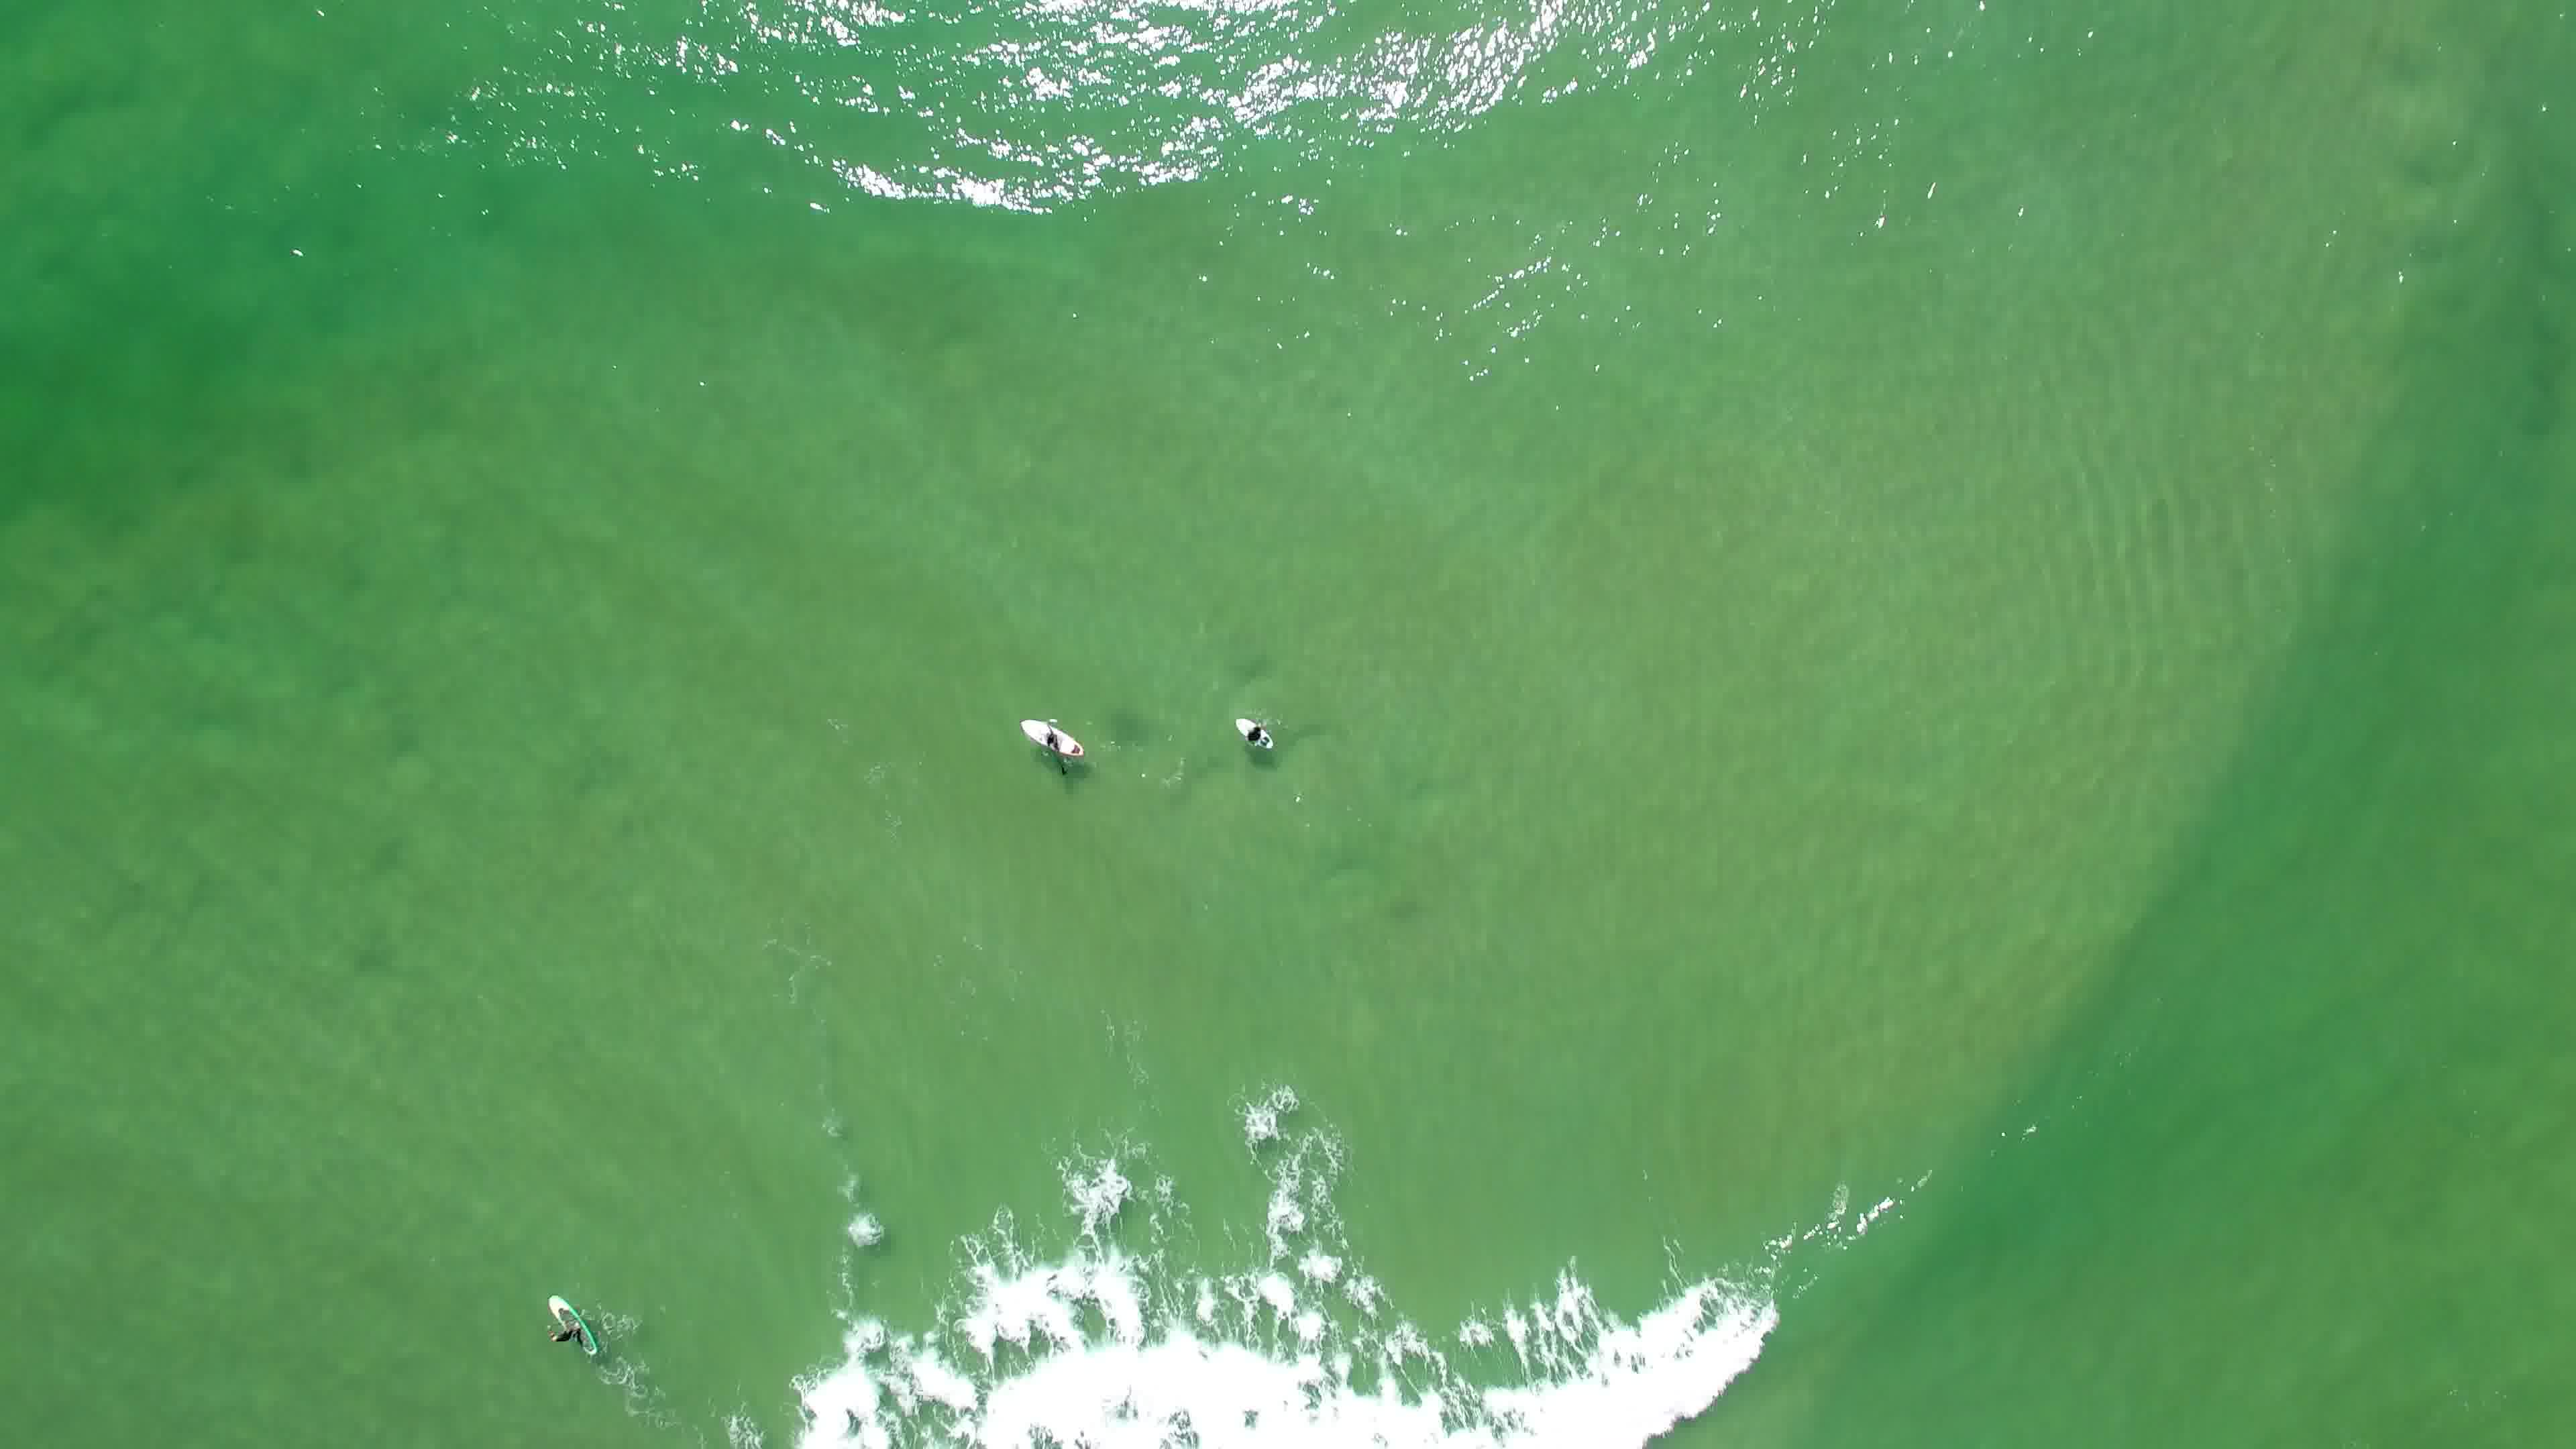surfer: (1012, 704, 1099, 775), (541, 1286, 616, 1362), (1230, 715, 1283, 759)
